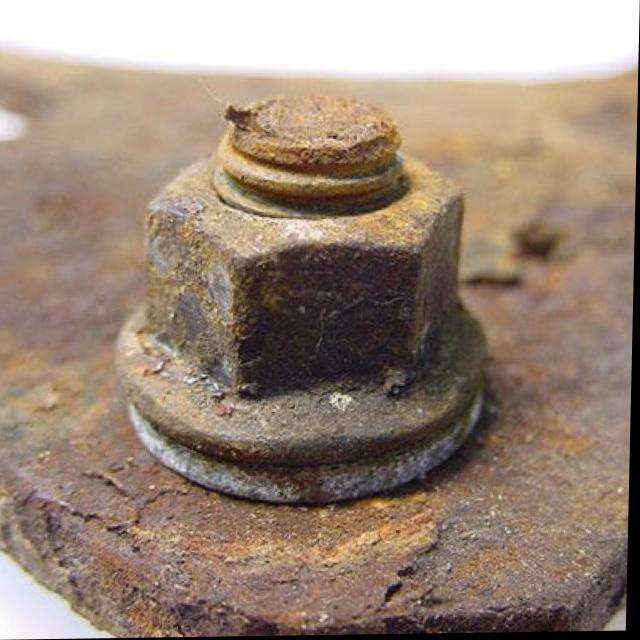Rusty bolt: (139, 145, 469, 445)
